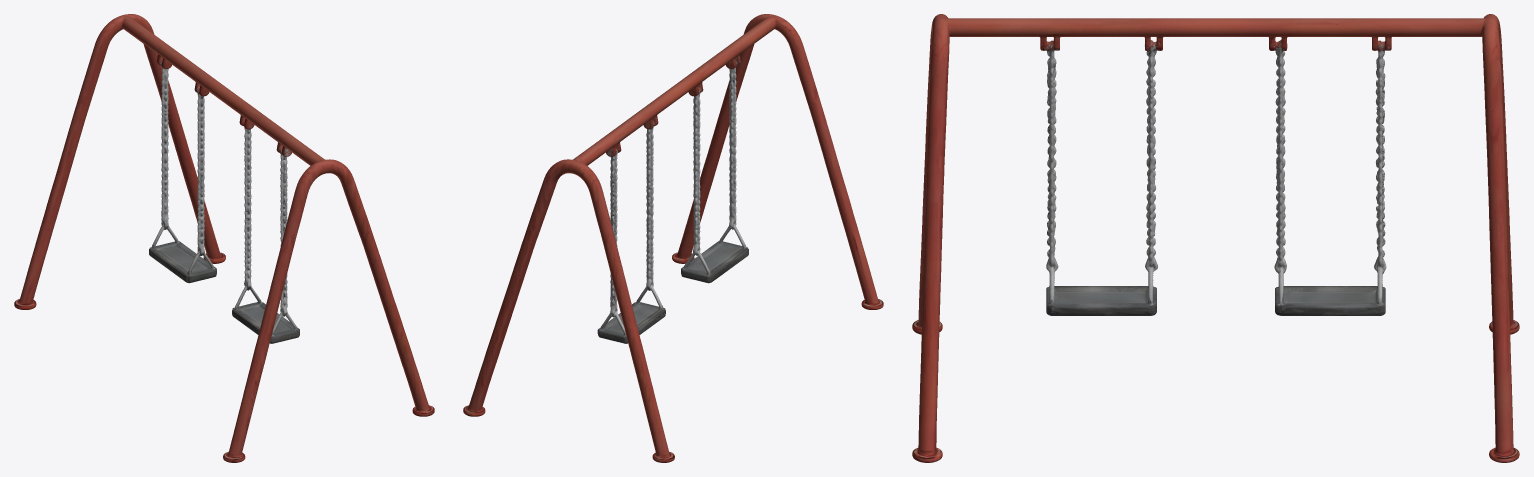
The model's file is Hamacas.glb.
3 renders of one model, left to right at view 1: azimuth 30°, elevation 25°; view 2: azimuth 150°, elevation 25°; view 3: azimuth 270°, elevation 25°, orthographic. The views are drawn at different scales.
Parts seen in each view (by area): view 1: tripo_node_27cf2e87-e19e-47a9-bc15-fef628276015; view 2: tripo_node_27cf2e87-e19e-47a9-bc15-fef628276015; view 3: tripo_node_27cf2e87-e19e-47a9-bc15-fef628276015.
Part boxes in pixels (<box>): tripo_node_27cf2e87-e19e-47a9-bc15-fef628276015: <box>14,14,434,462</box>; tripo_node_27cf2e87-e19e-47a9-bc15-fef628276015: <box>463,14,883,462</box>; tripo_node_27cf2e87-e19e-47a9-bc15-fef628276015: <box>912,14,1519,462</box>.
Bounding box in the file's own units: 0.5494 × 0.6817 × 1.
1 material, 1 textured.
